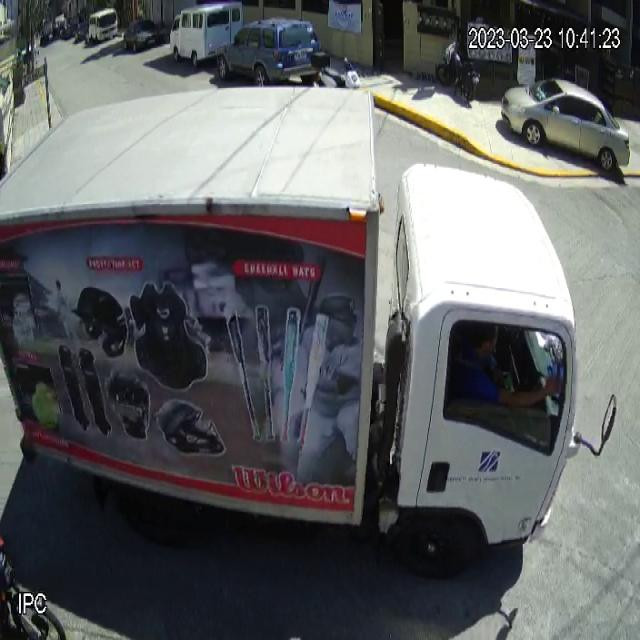Car: (500, 79, 631, 172), (217, 16, 322, 89)
Truck: (0, 75, 618, 572)
Van: (169, 2, 244, 68)
